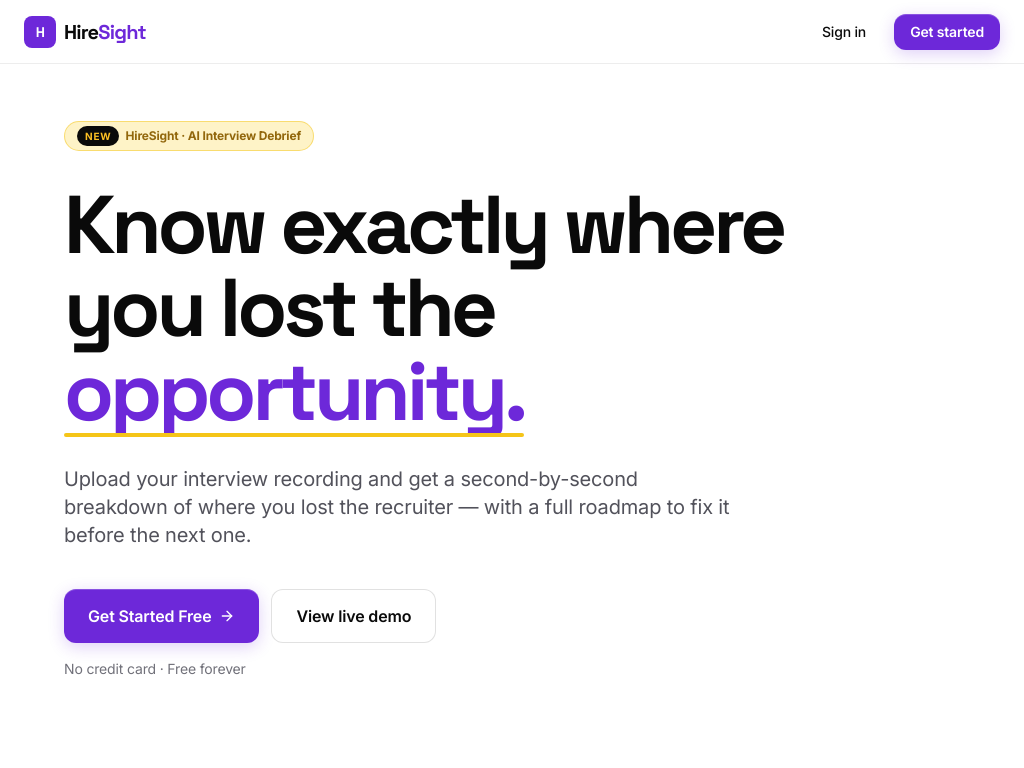
Scenario: HireSight authentication › loads the landing page and opens sign in
The image size is (1024, 768).
Expected: the heading "Know exactly where" is shown, left=64, top=172, right=783, bottom=277
Click the link "Sign in" at point(844, 32), box left=822, top=23, right=866, bottom=40
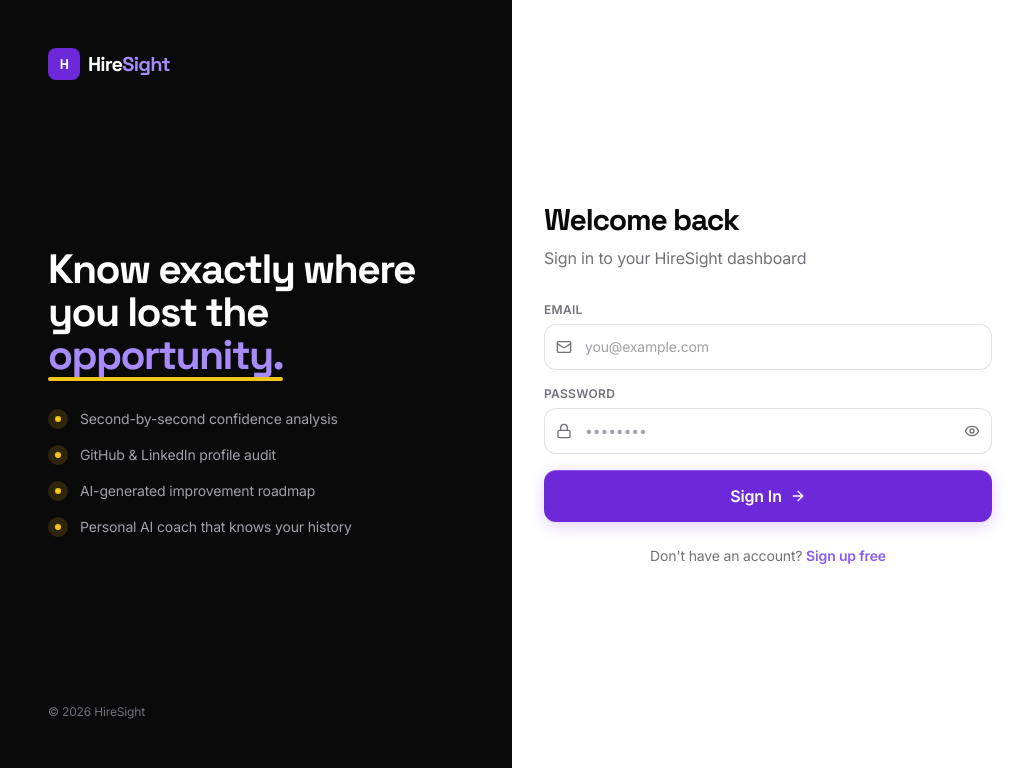
Now the heading "Welcome back" is shown, box left=544, top=200, right=739, bottom=239
